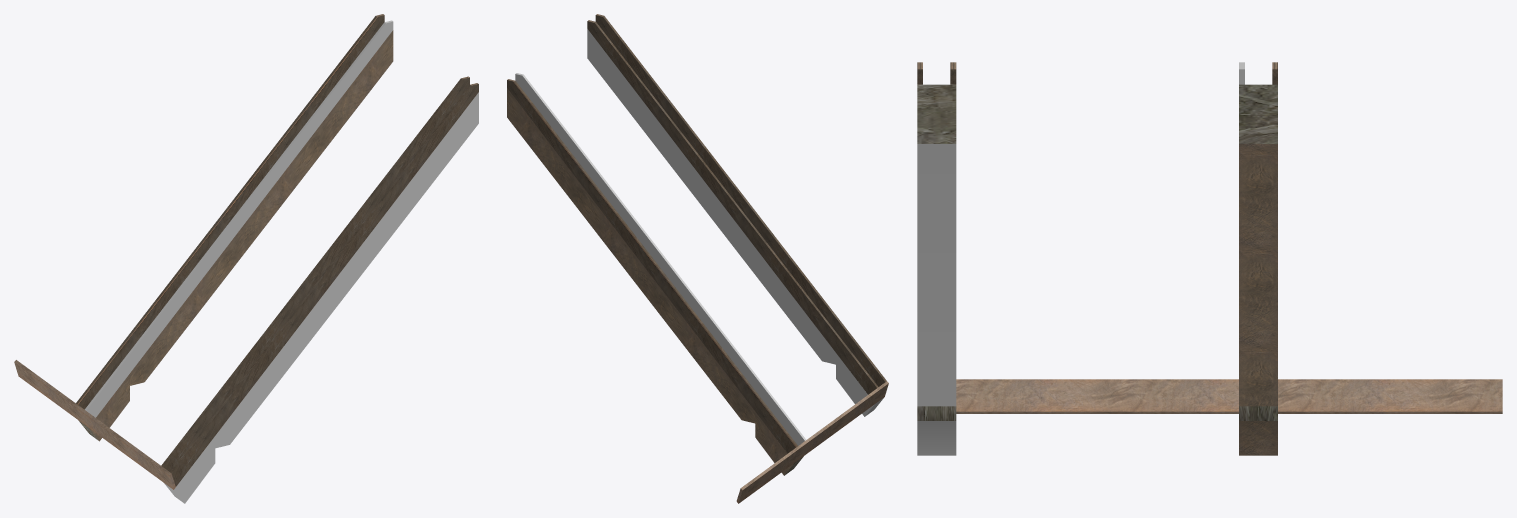
File: RafterMidD.fbx
3 renders of one model, left to right at view 1: azimuth 30°, elevation 25°; view 2: azimuth 150°, elevation 25°; view 3: azimuth 270°, elevation 25°, orthographic. The views are drawn at different scales.
Visible parts, largest first — view 1: RafterMidD; view 2: RafterMidD; view 3: RafterMidD.
Part boxes in pixels (box(x1,y1,x2,y2)): RafterMidD: box(14, 14, 478, 503); RafterMidD: box(507, 14, 888, 503); RafterMidD: box(917, 62, 1502, 455).
Bounding box in the file's own units: 465 × 500 × 404.
